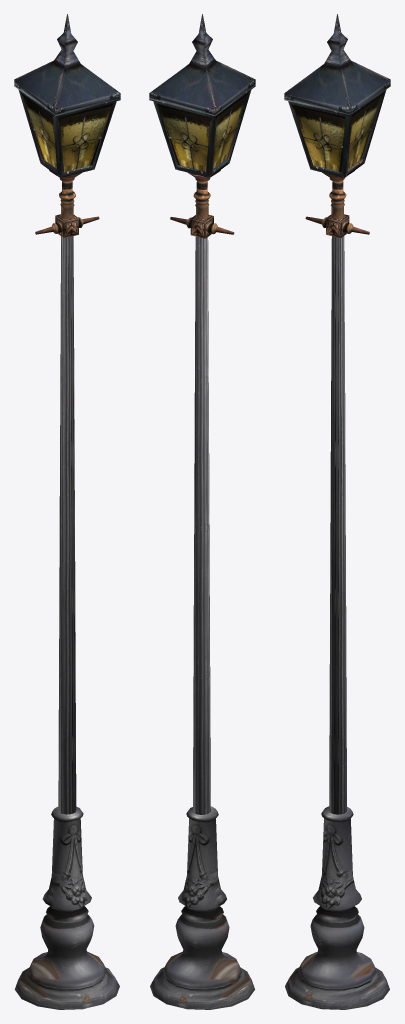
The model's file is streetlamp.fbx.
The picture shows the model from 3 angles, left to right: view 1: azimuth 30°, elevation 25°; view 2: azimuth 150°, elevation 25°; view 3: azimuth 330°, elevation 25°; orthographic projection.
Parts seen in each view (by area): view 1: U3DMesh; view 2: U3DMesh; view 3: U3DMesh.
Boxes of the visible parts, x1,y1,x2,y2 form: U3DMesh: [14, 14, 120, 1009]; U3DMesh: [149, 14, 255, 1009]; U3DMesh: [284, 14, 390, 1009].
Bounding box in the file's own units: 14.62 × 149 × 14.25.
